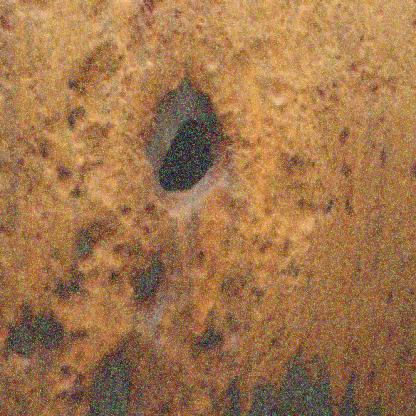burst: (140, 71, 230, 204)
